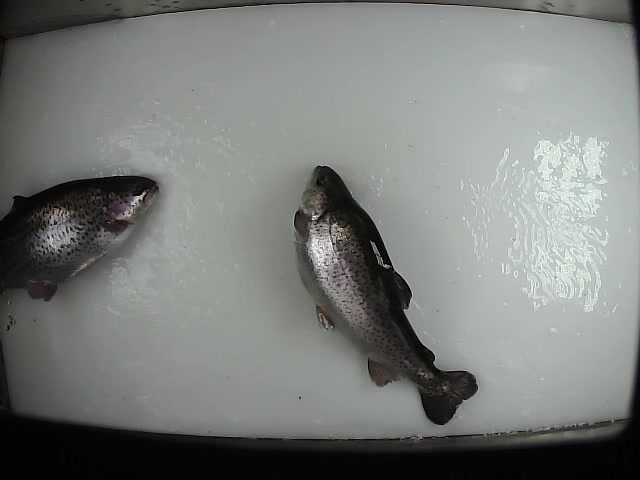fish: (290, 158, 478, 428), (2, 171, 162, 304)
